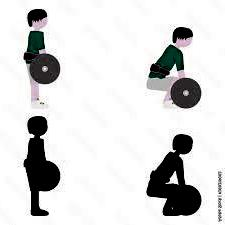Barbell: (39, 65, 46, 72), (180, 90, 187, 97)
